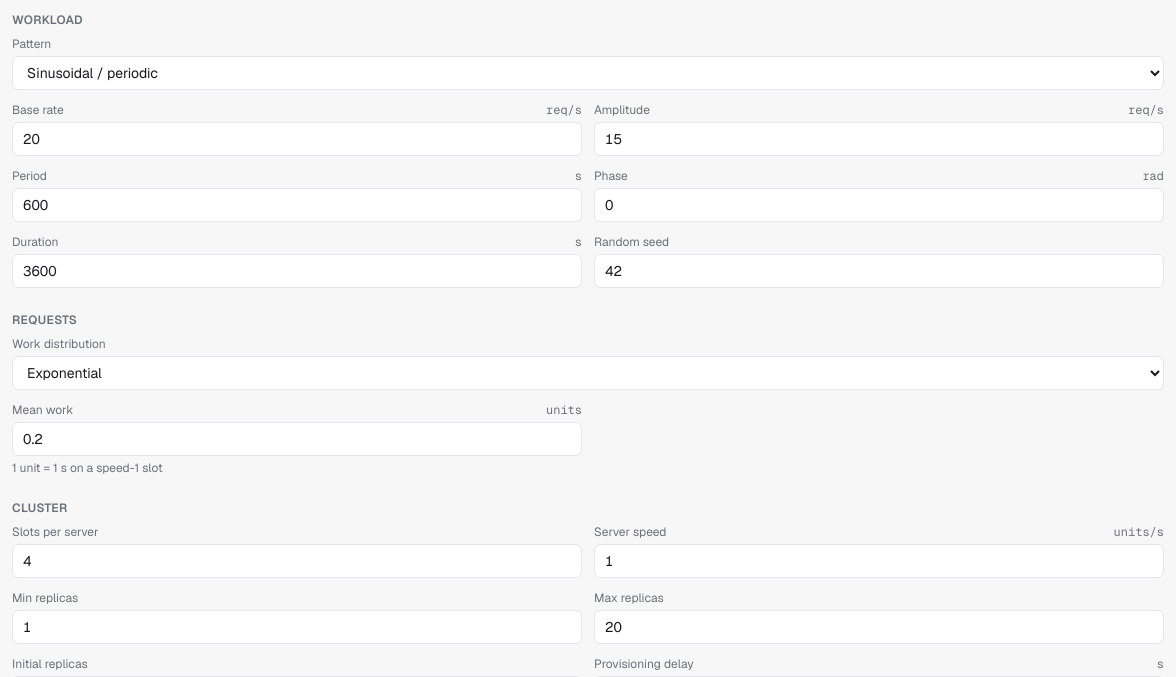
Test: ScenarioForm › treats a cleared field as required
Clear the number field labelled "Duration s": (297, 271) [12,254,582,288]
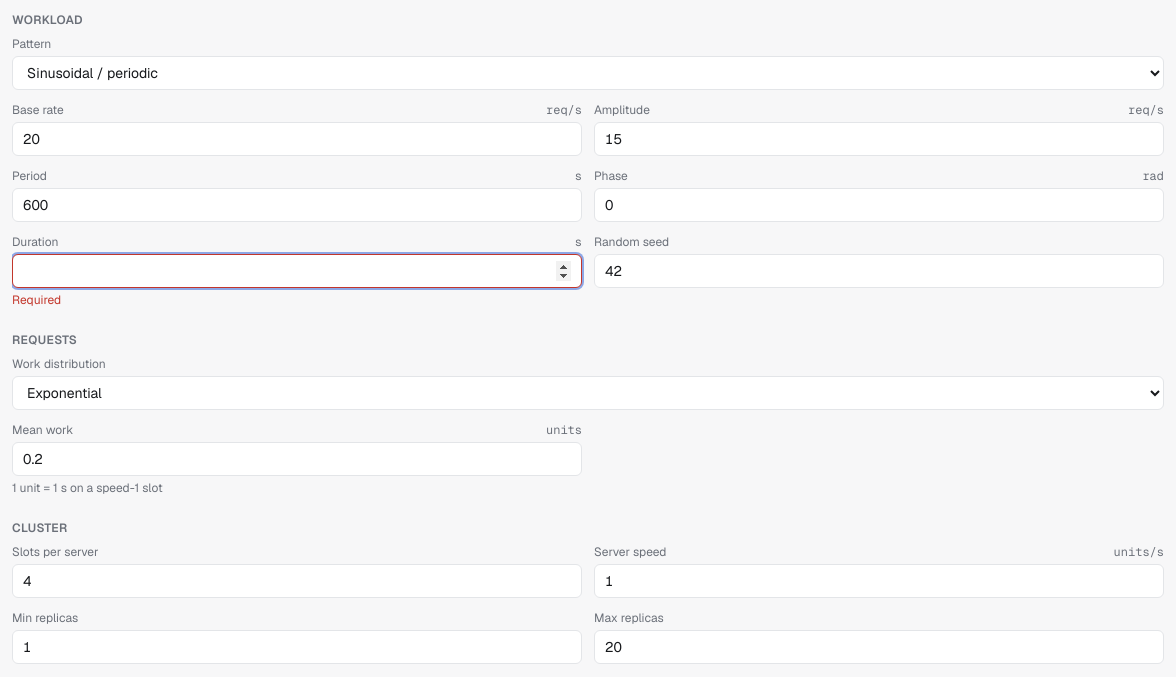
Result: the text "Required" is shown at [12,292,61,308]
